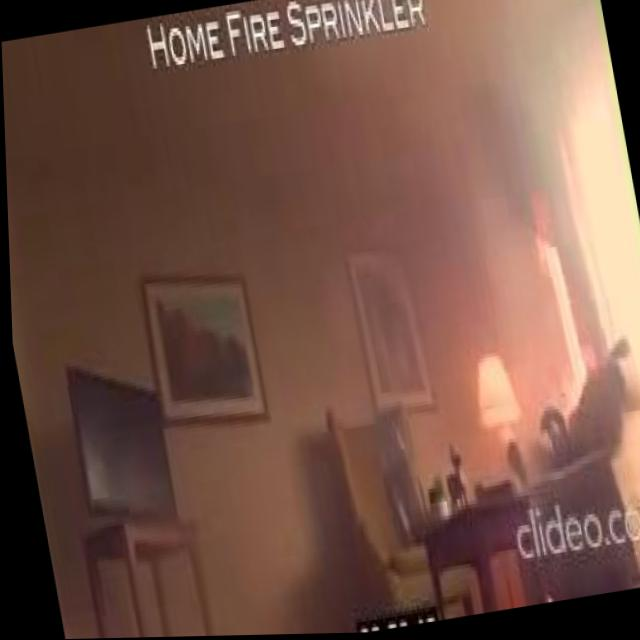fire: (532, 240, 591, 425)
